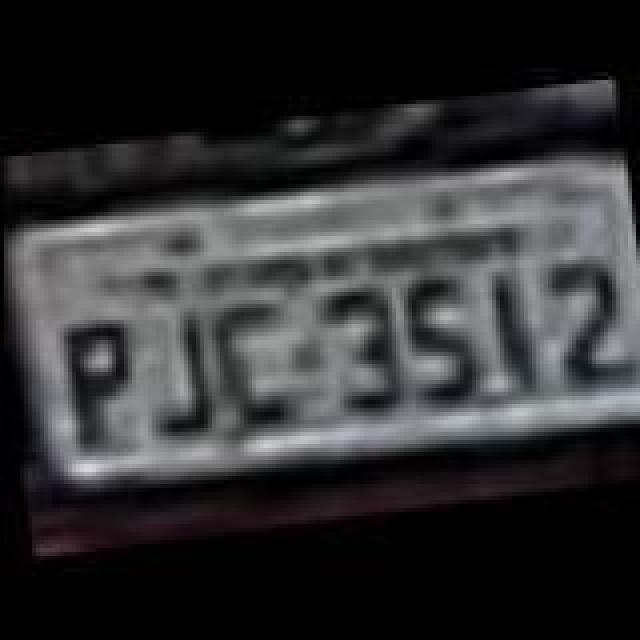1: (476, 264, 540, 404)
2: (540, 254, 640, 394)
3: (316, 280, 404, 420)
5: (396, 272, 484, 412)
C: (204, 294, 300, 430)
J: (138, 300, 222, 440)
P: (56, 314, 144, 454)
